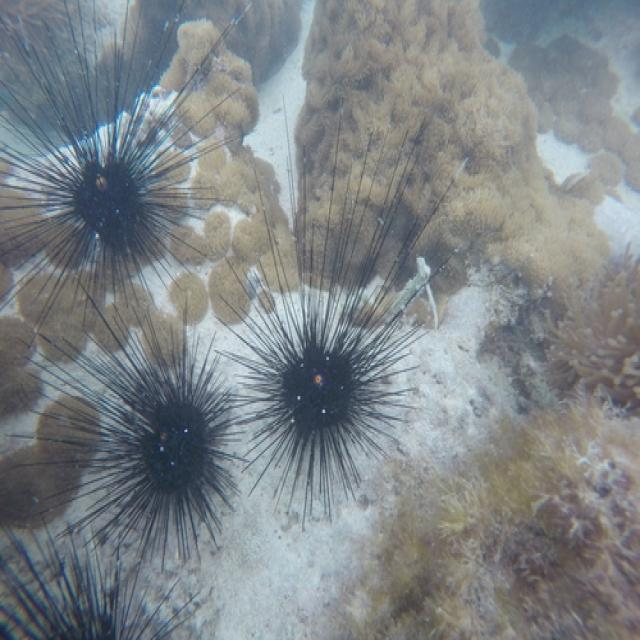Urchin: (220, 94, 471, 531), (2, 2, 248, 317), (1, 282, 251, 570)
